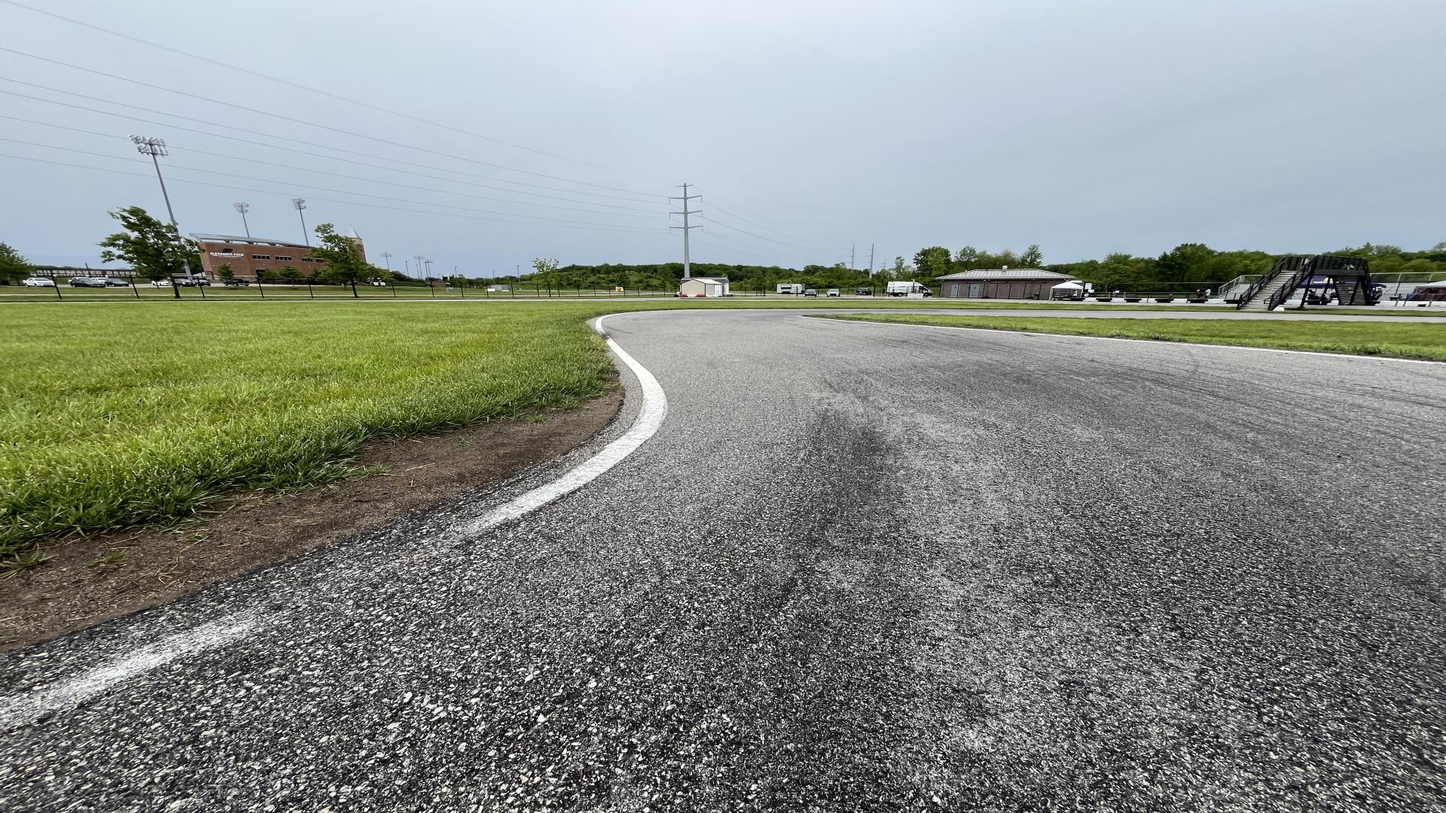white-line: (423, 309, 816, 555), (0, 605, 283, 738), (798, 315, 1445, 365)
